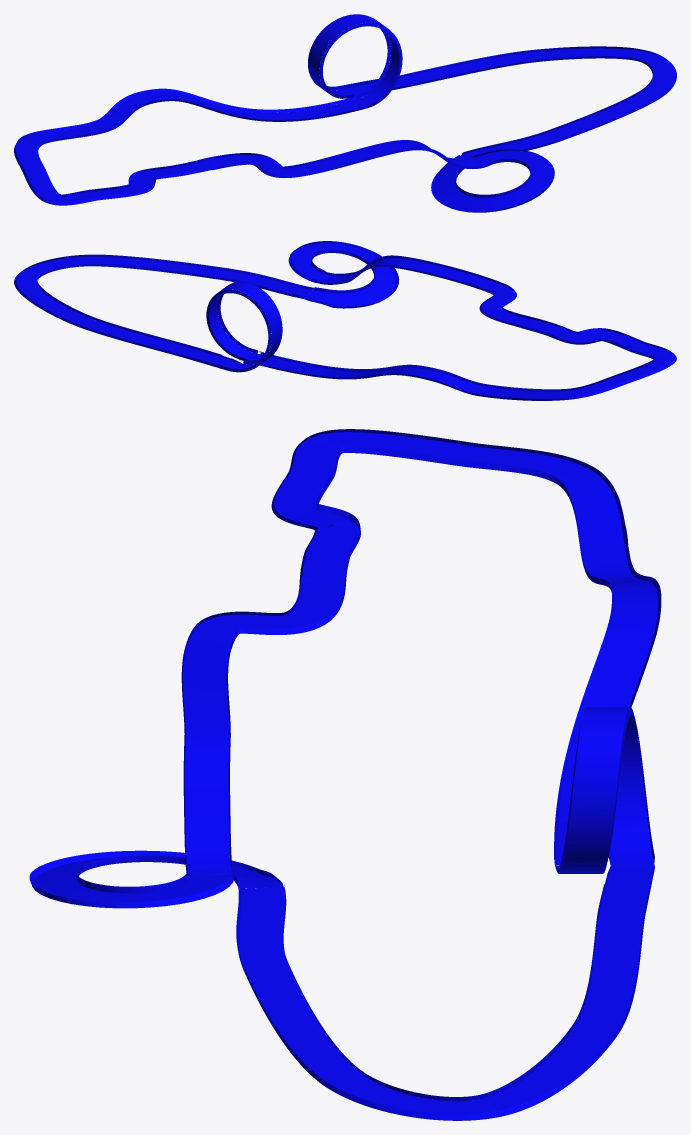
The picture shows the model from 3 angles, top to bottom: view 1: azimuth 30°, elevation 25°; view 2: azimuth 150°, elevation 25°; view 3: azimuth 270°, elevation 25°; orthographic projection. The views are drawn at different scales.
Parts seen in each view (by area): view 1: Track, TrackBorder; view 2: Track, TrackBorder; view 3: Track, TrackBorder.
Boxes of the visible parts, x1,y1,x2,y2 form: Track: (15, 14, 674, 212); TrackBorder: (14, 22, 676, 212); Track: (16, 243, 674, 398); TrackBorder: (14, 241, 676, 400); Track: (32, 432, 657, 1114); TrackBorder: (29, 429, 661, 1120).
Bounding box in the file's own units: 3112 × 408 × 1363.
